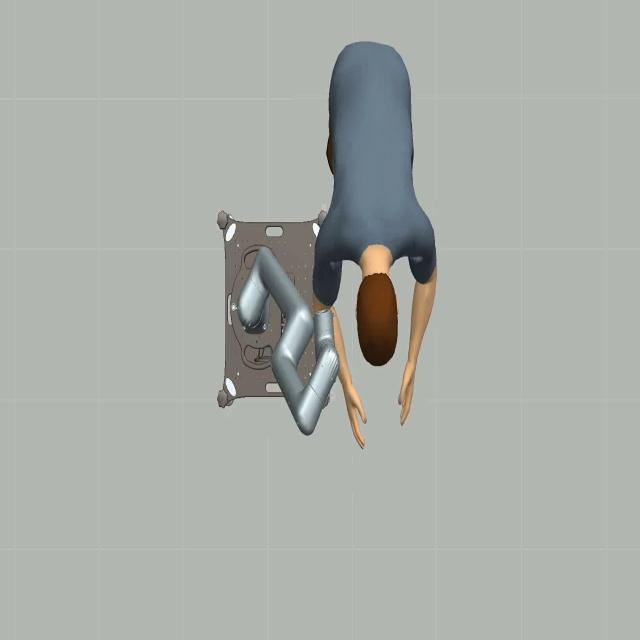human: (313, 32, 443, 460)
robot: (215, 233, 344, 448)
